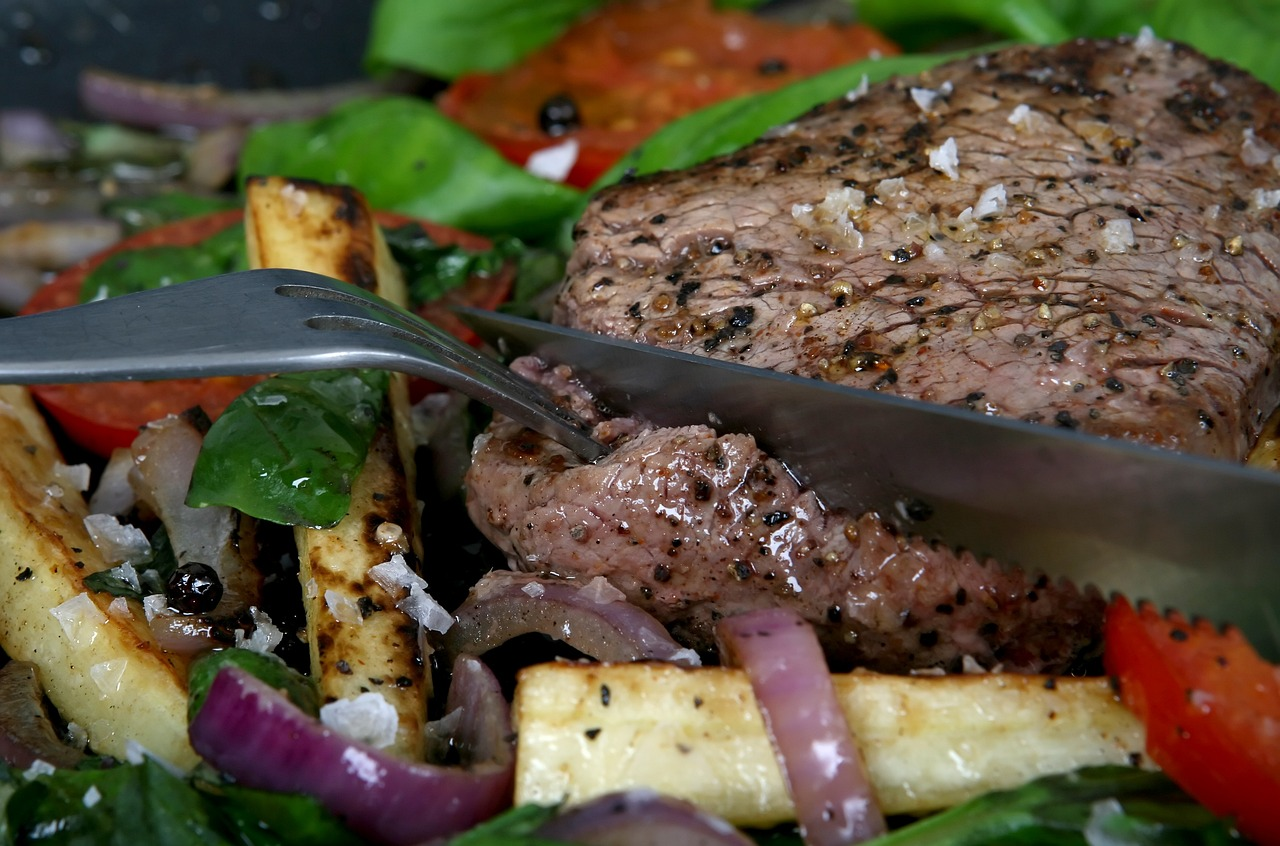knife: (420, 288, 1280, 657)
